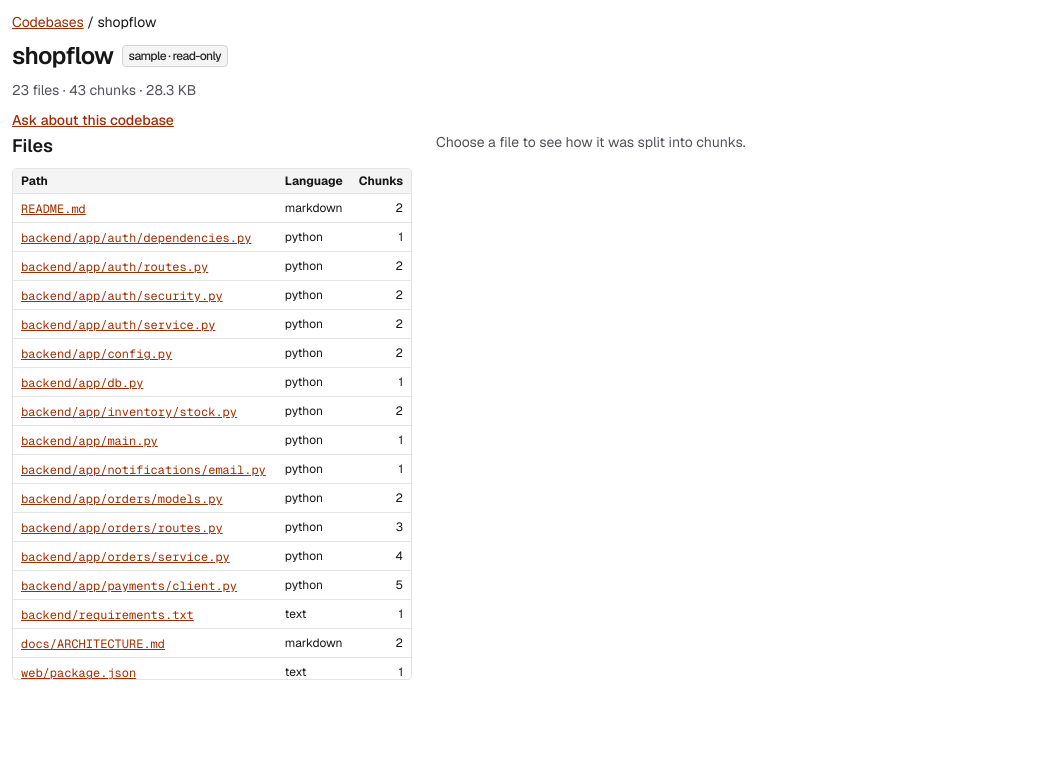
Test: Codebase detail › lists files and shows how a file was split
The width and height of the screenshot is (1048, 780).
Expected: the heading "shopflow sample · read-only" is shown, [12,40,228,71]
Click the button "backend/app/db.py" at (82, 383), box [21,375,143,391]
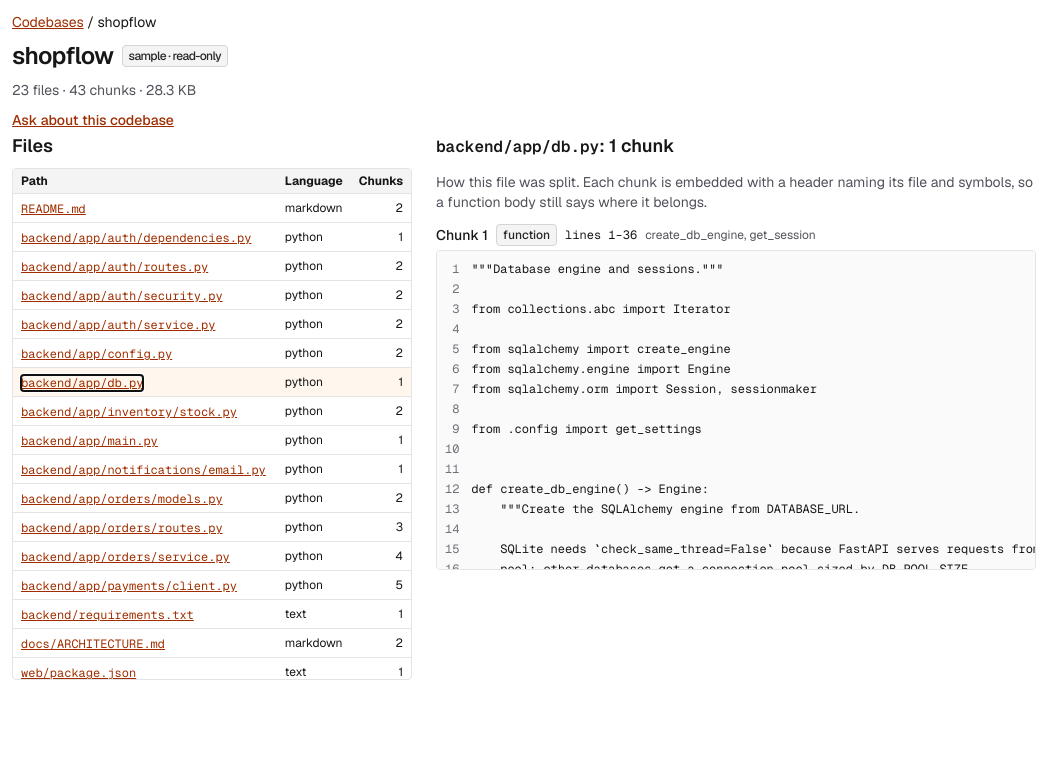
Now the element named "Chunk 1 of backend/app/db.py" is shown, box [436,250,1036,570]
